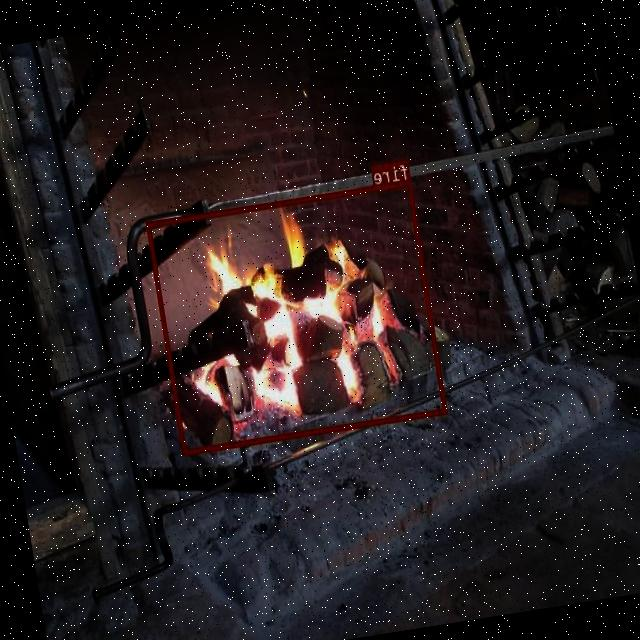fire: (146, 180, 448, 454)
